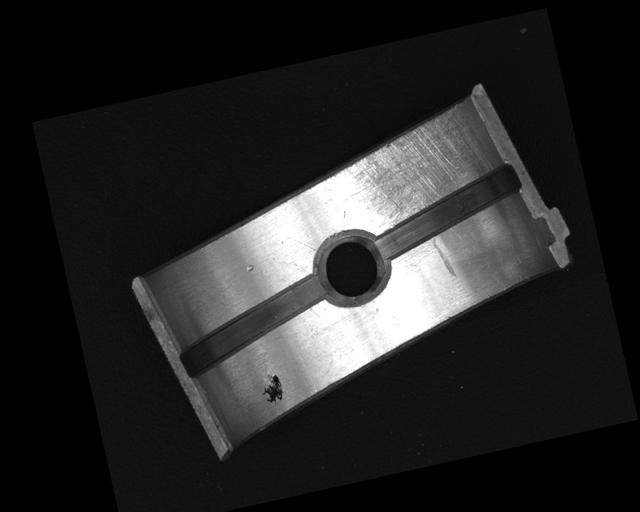blot: (256, 371, 287, 410)
bruise: (243, 263, 257, 273)
gap: (168, 269, 342, 381), (364, 161, 531, 263)
hole: (307, 224, 394, 309)
nick: (430, 232, 458, 281), (287, 230, 320, 257)
scratch: (329, 98, 497, 235)
